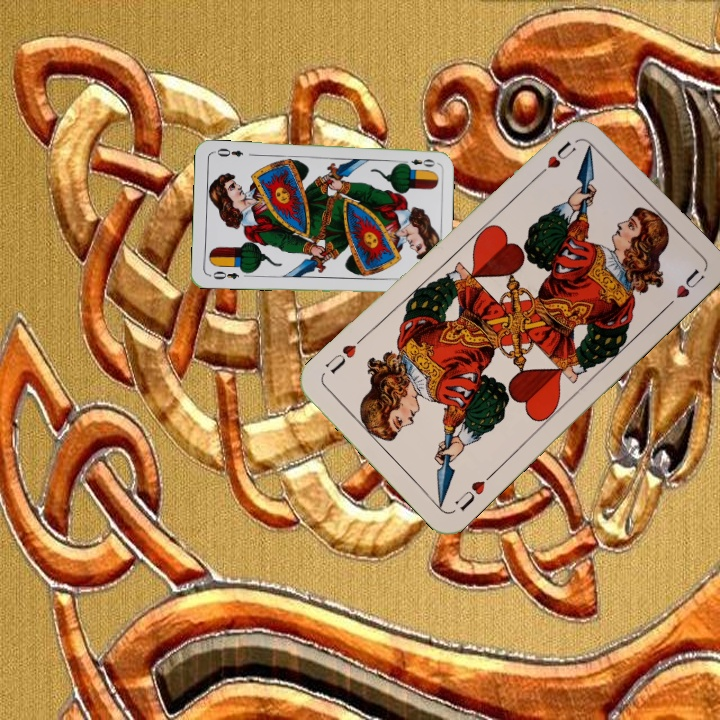EO: (398, 155, 438, 169), (206, 267, 242, 282)
HU: (531, 137, 579, 181), (451, 469, 496, 514)
